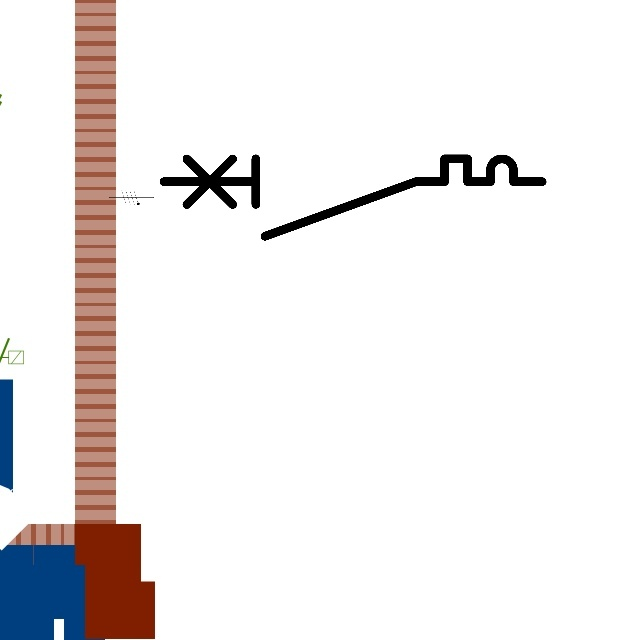interruptor_termomagnetico: (154, 149, 552, 246)
